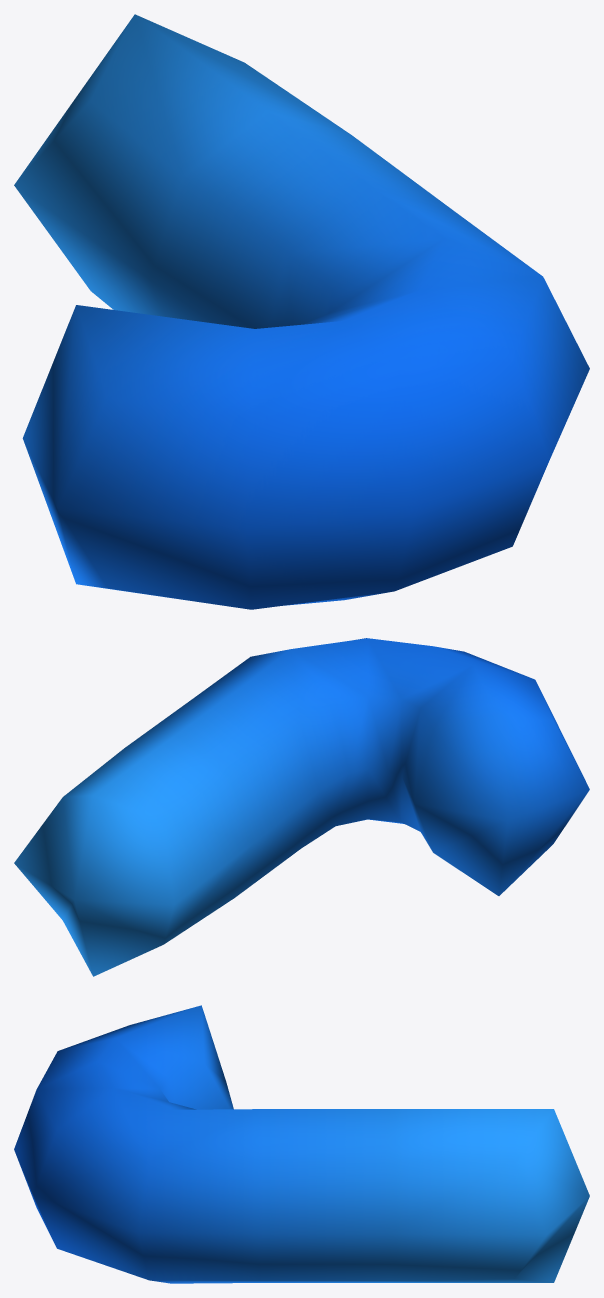
Rendered from CartoonFont_J.FBX.
The picture shows the model from 3 angles, top to bottom: view 1: azimuth 30°, elevation 25°; view 2: azimuth 150°, elevation 25°; view 3: azimuth 270°, elevation 25°; orthographic projection. The views are drawn at different scales.
Visible parts, largest first — view 1: J; view 2: J; view 3: J.
Boxes of the visible parts, x1,y1,x2,y2 form: J: (14, 14, 589, 609); J: (14, 638, 589, 976); J: (14, 1005, 589, 1283).
Size of the model in its own units: 20.73 by 10.08 by 30.26.
Materials: 1 (1 with a texture image).
